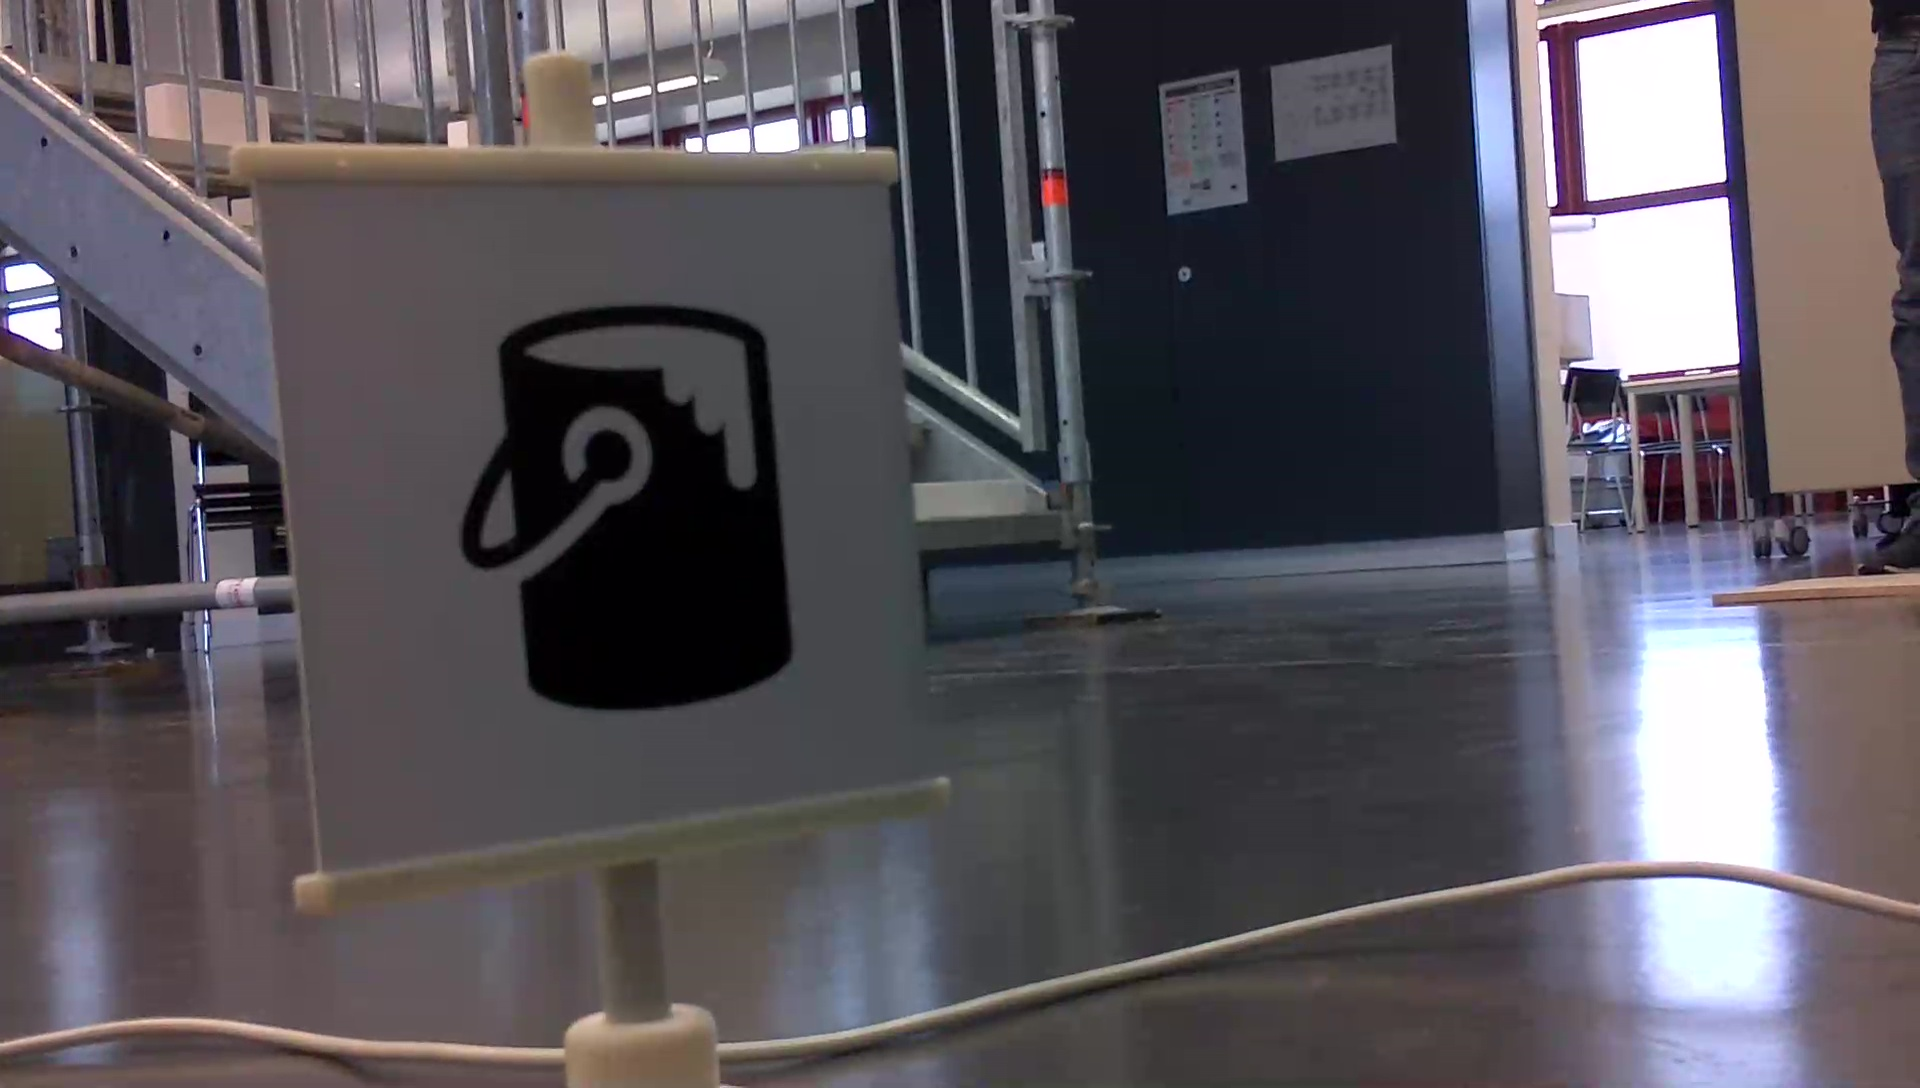brick: (913, 479, 1021, 516)
bucket: (446, 295, 804, 725)
